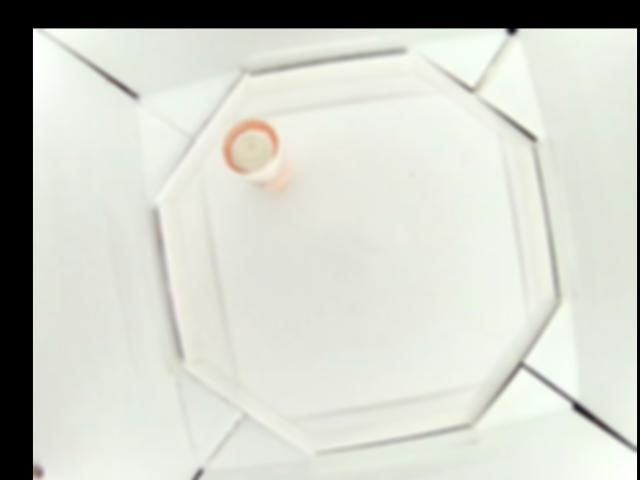Bottle: (218, 118, 288, 189)
